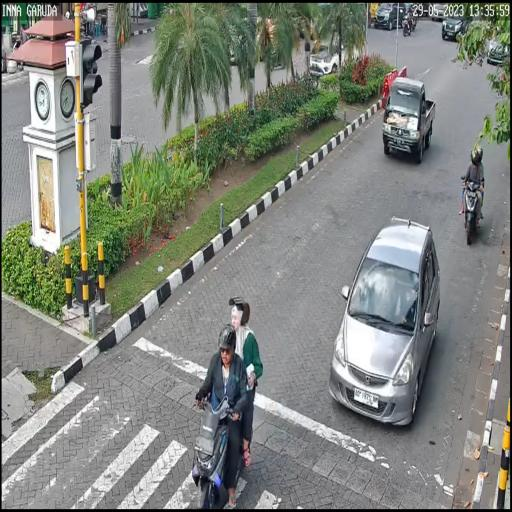mobil: (328, 216, 442, 422), (383, 75, 437, 166)
motor: (194, 391, 256, 504), (460, 174, 485, 244)
